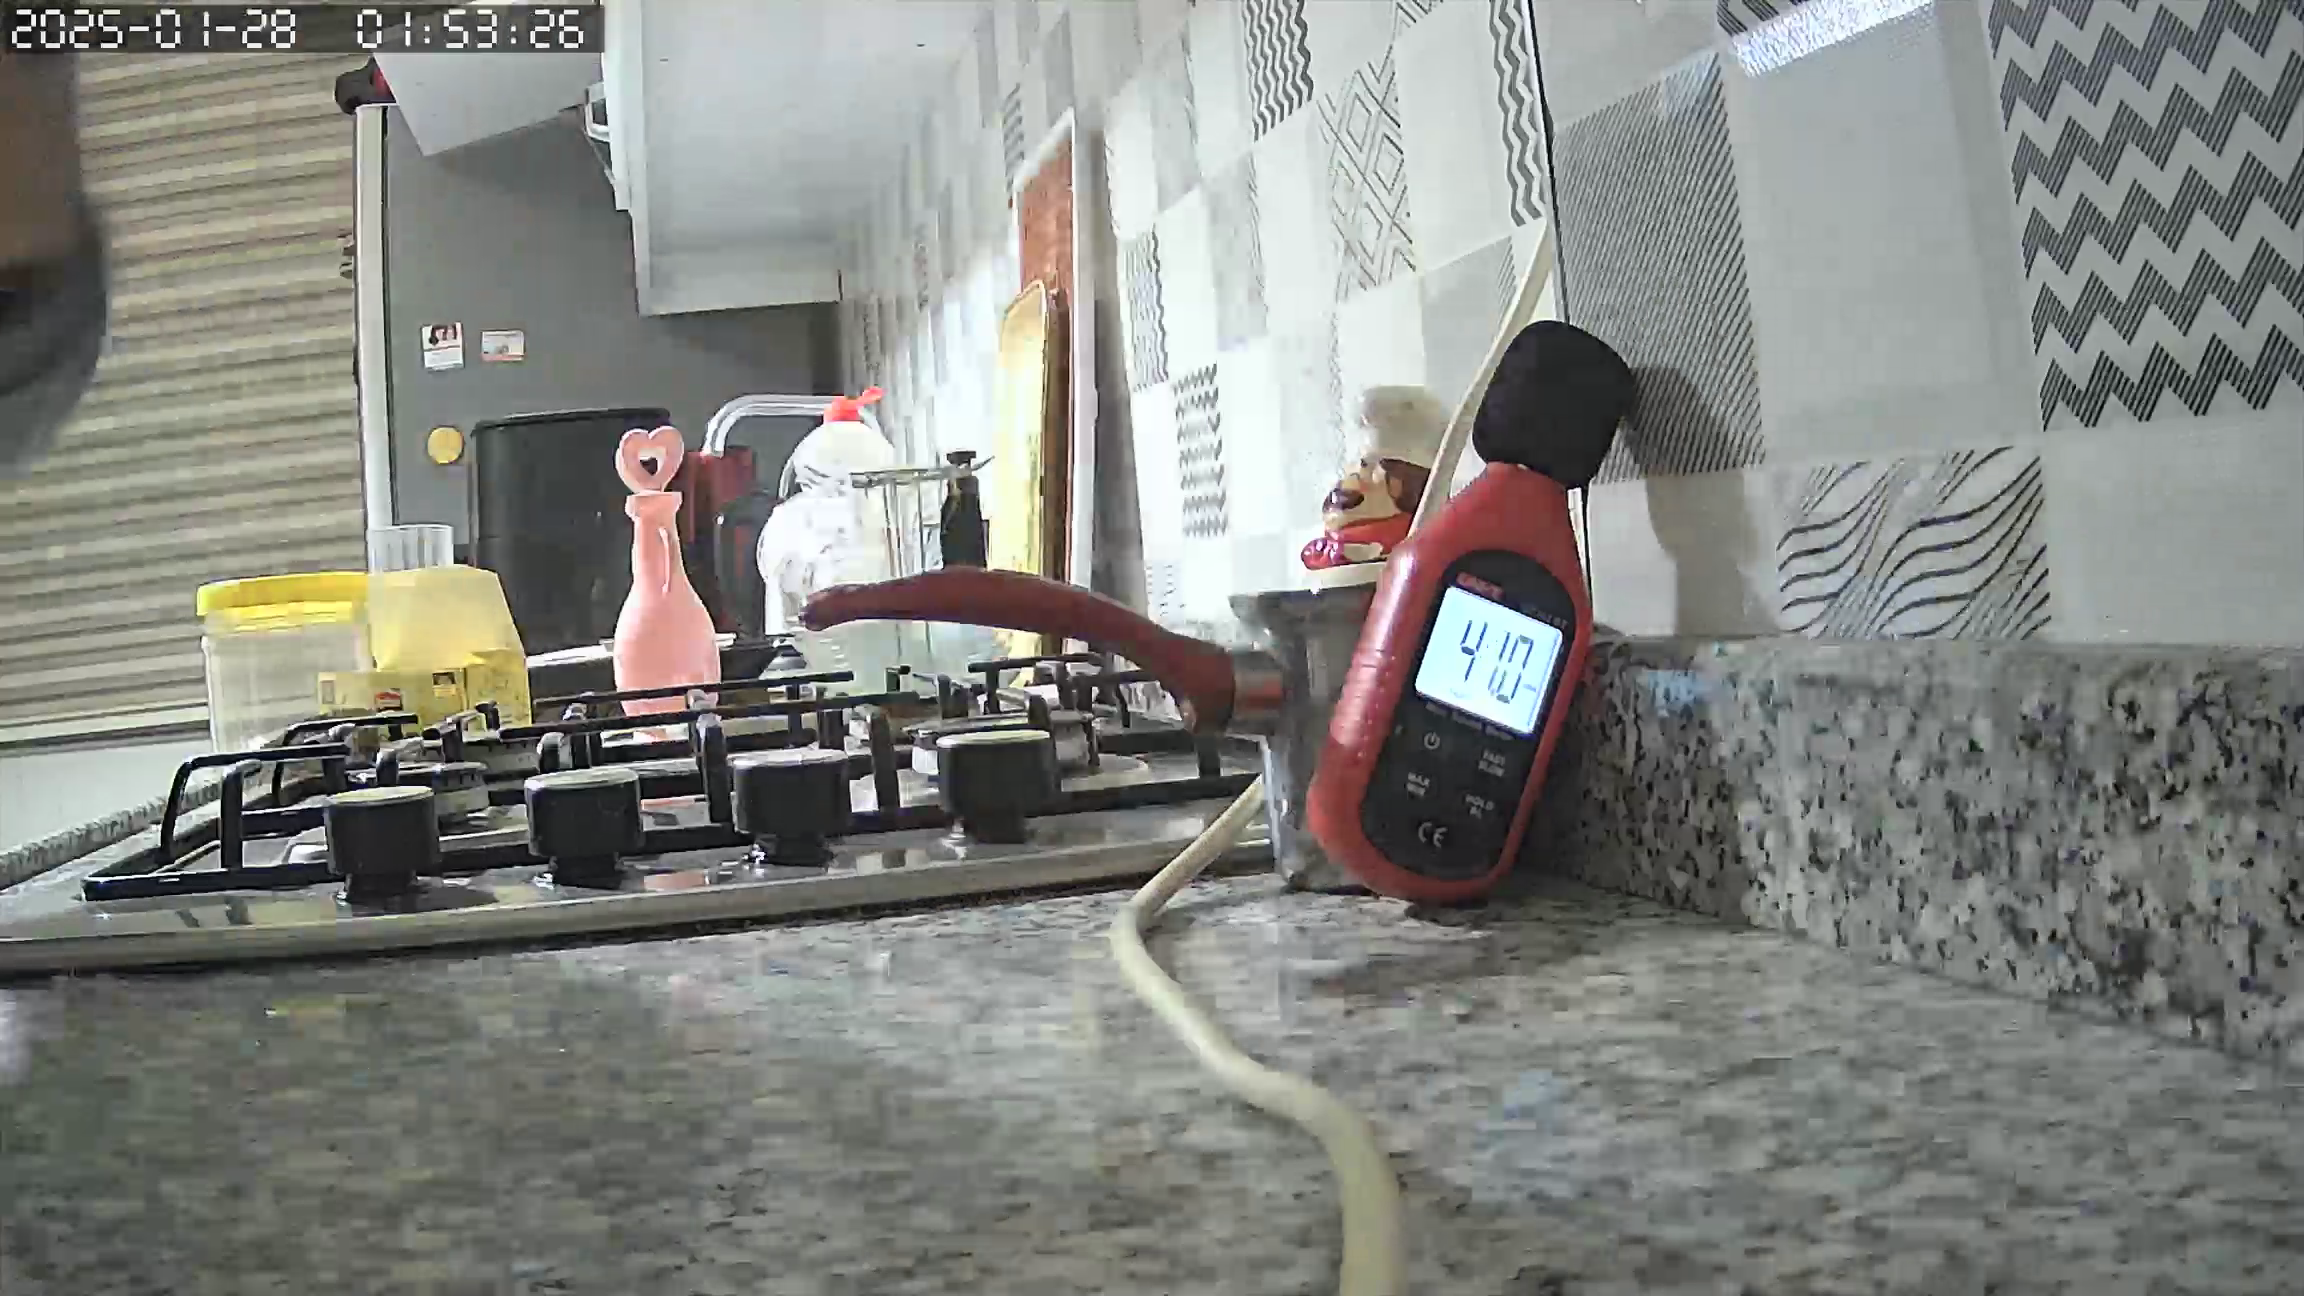screen: (1408, 585, 1563, 736)
